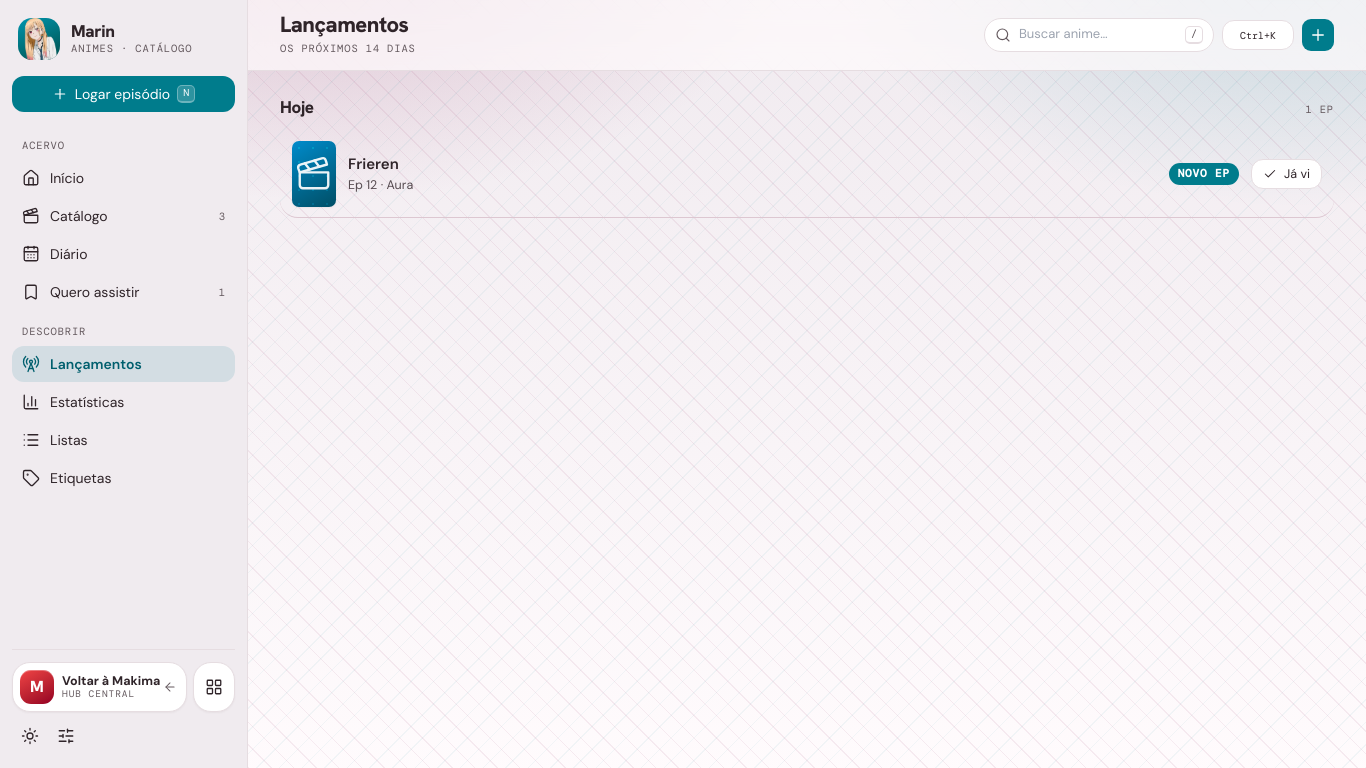
Lançamentos › agrupa por dia, marca o de hoje com "Novo ep" e "Já vi" abre o formulário no episódio
Expected: the heading "Hoje" is shown, x1=280 y1=95 x2=314 y2=119
Expected: the text "Novo ep" is shown, x1=1169 y1=163 x2=1239 y2=185
Click the button "Já vi": x=1286, y=174 x1=1251 y1=159 x2=1322 y2=189
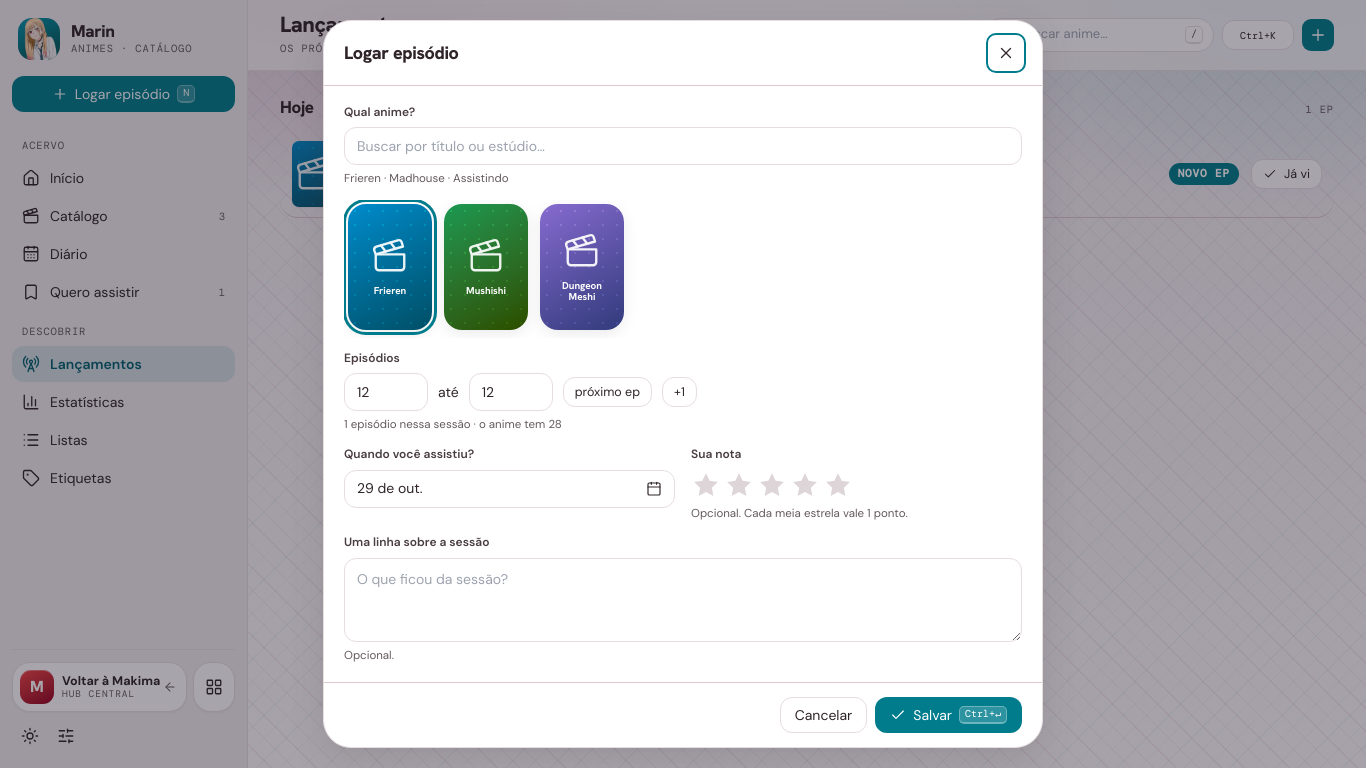
Expected: the number field named "Primeiro episódio" holds "12", x1=344 y1=374 x2=428 y2=412
